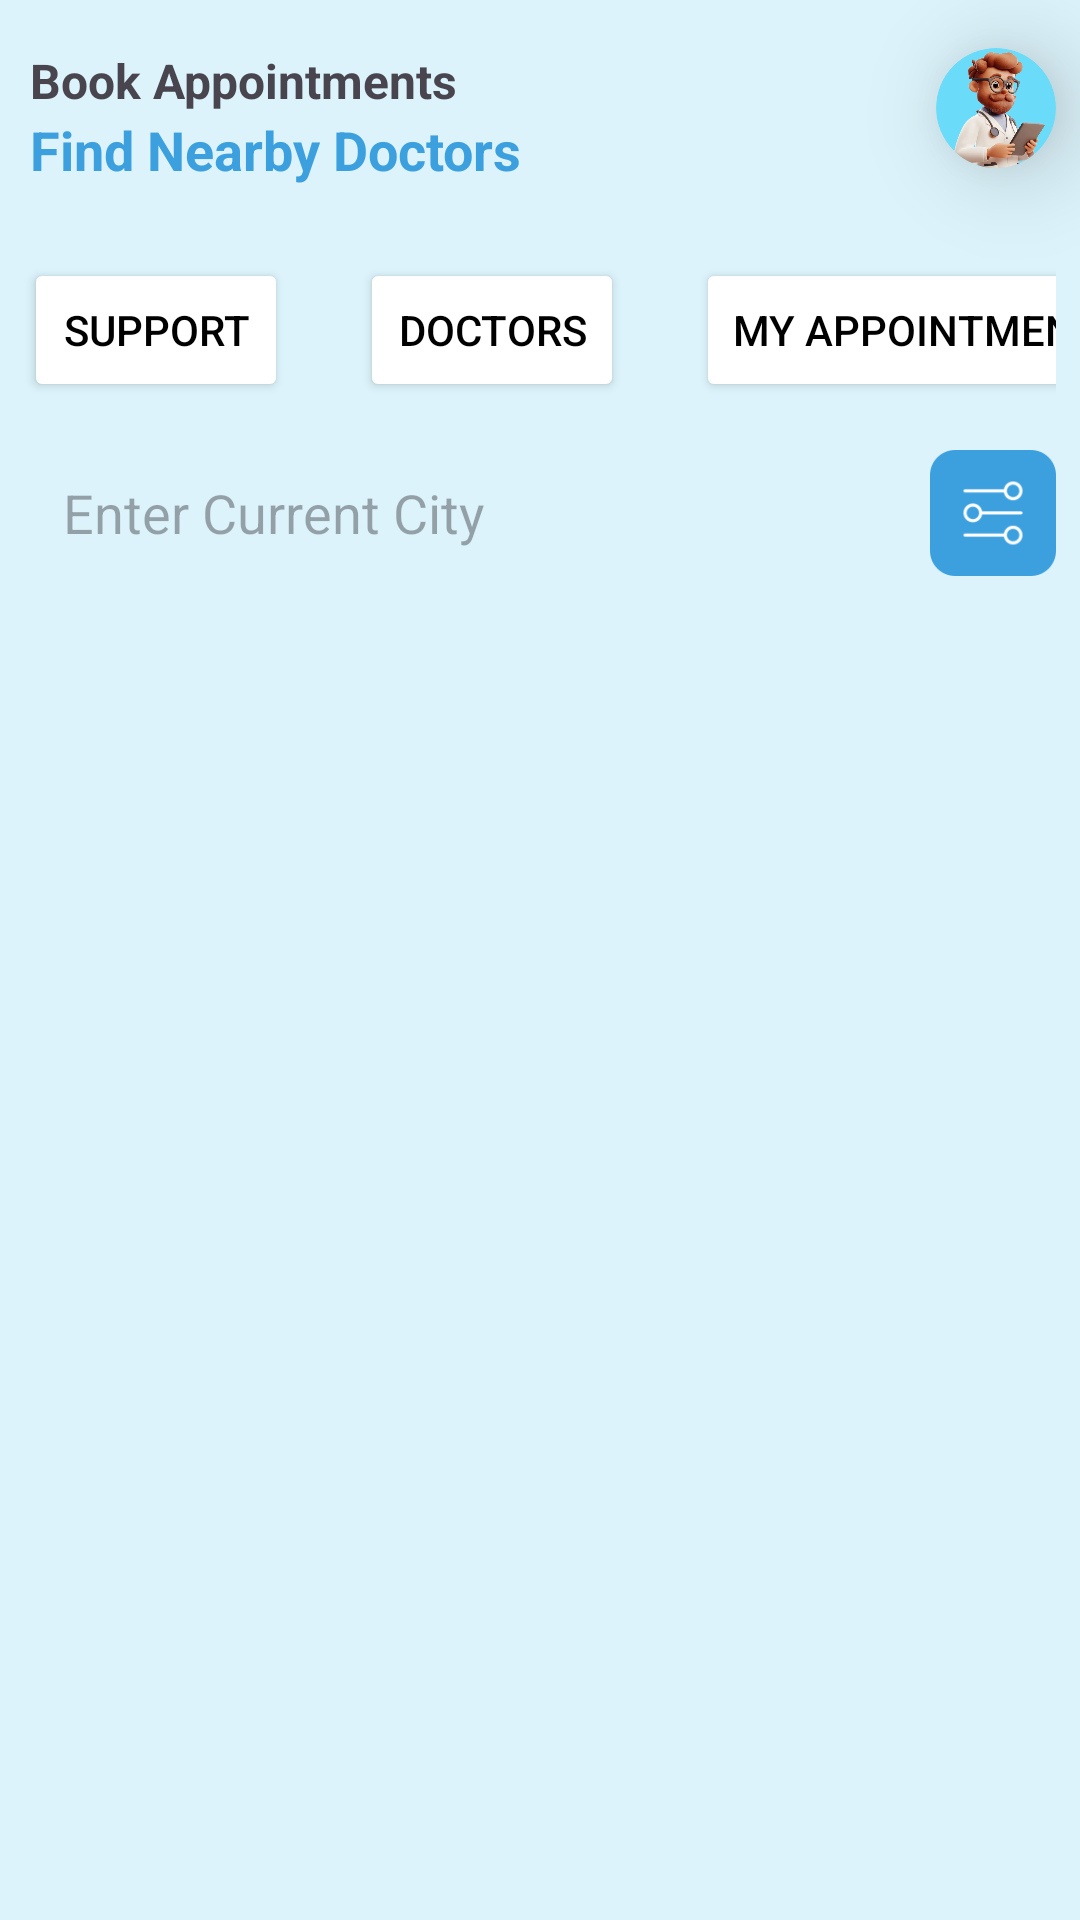

Icon bounding boxes for this 1080×1920 phone screenshot, format (x1, y1, x2, y2):
levels: (930, 450, 1056, 576)
